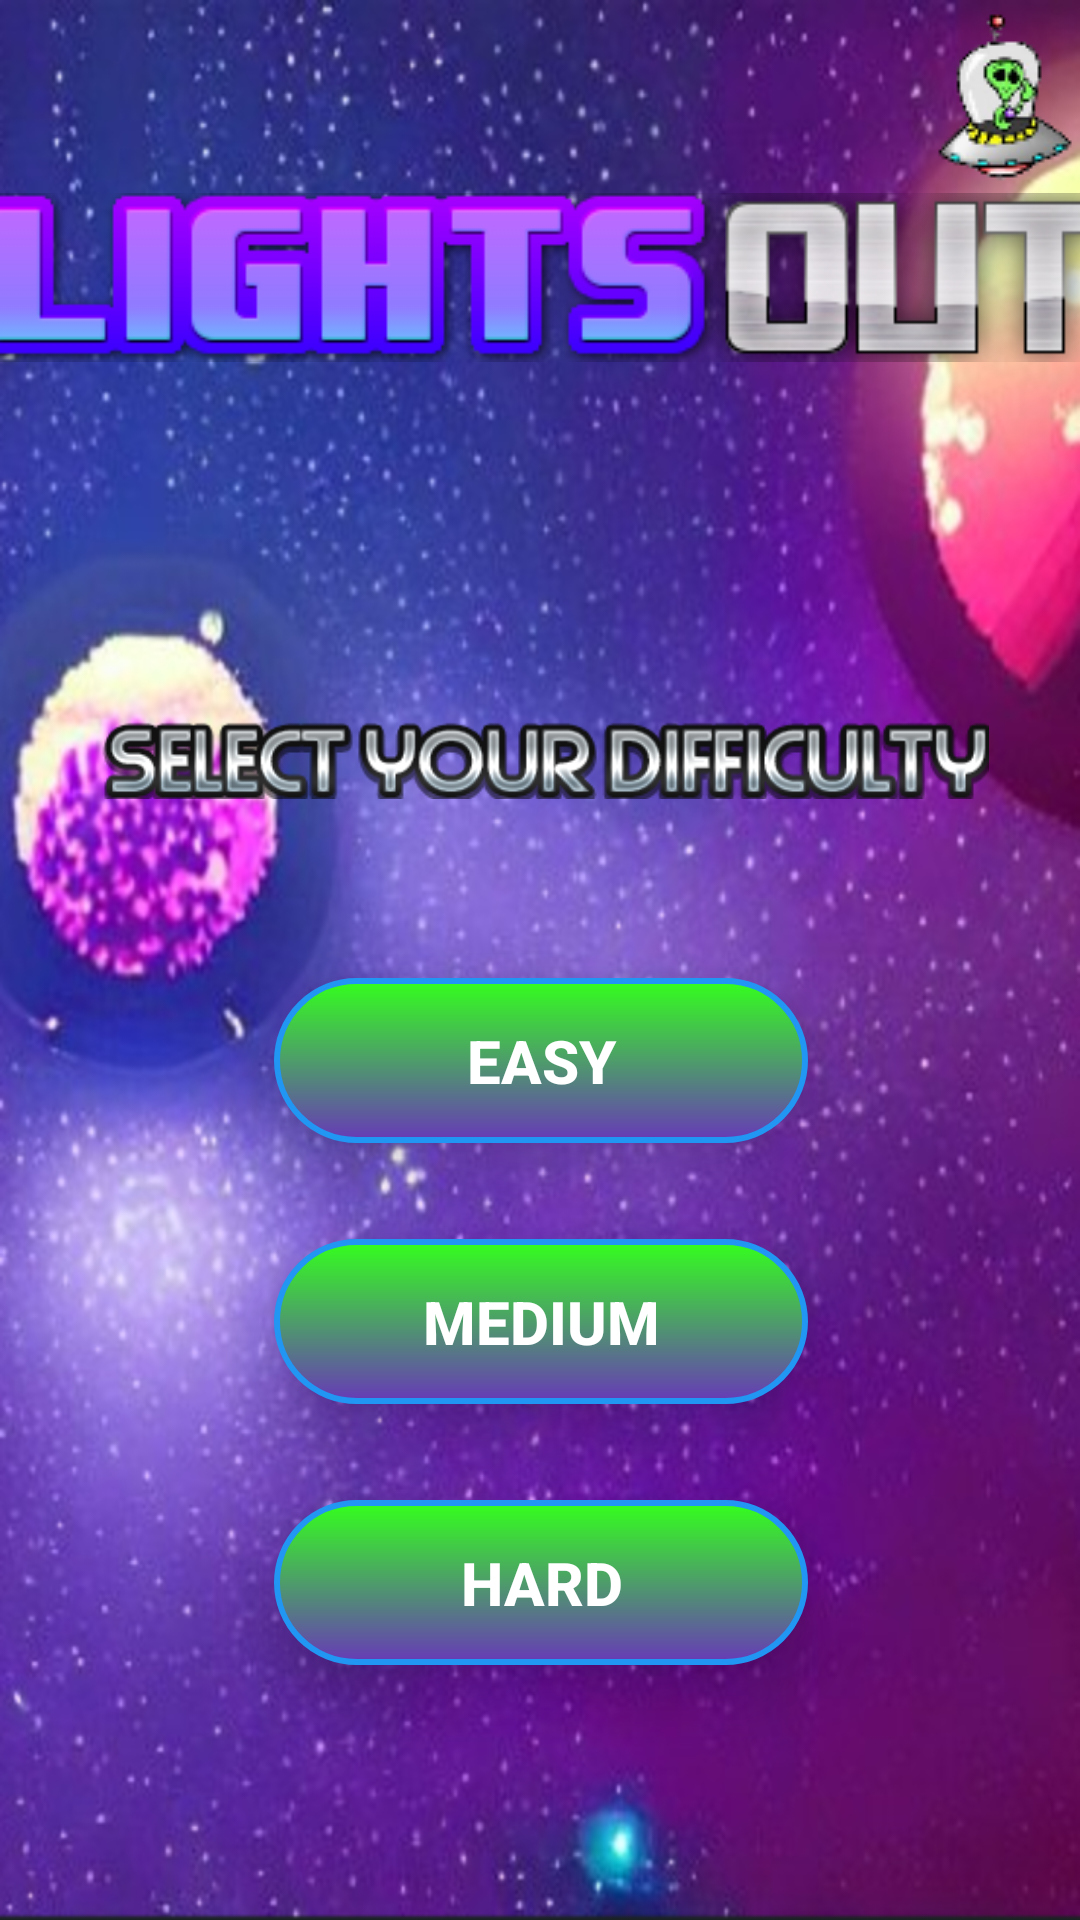

Screen size 1080 × 1920. Icon name, then its center in pixels as (x=x, y=y):
alien: (x=1005, y=96)
